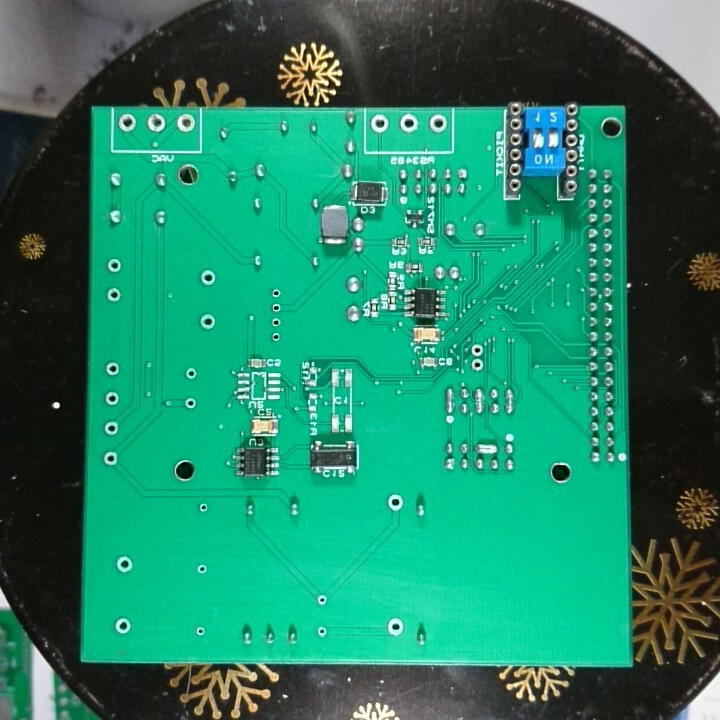F: (397, 111, 420, 135), (117, 111, 139, 135), (143, 112, 167, 134), (369, 112, 391, 135), (114, 553, 136, 575), (174, 112, 197, 133), (428, 112, 448, 135), (385, 615, 404, 639), (102, 448, 123, 469), (385, 492, 405, 513), (112, 616, 133, 636), (197, 268, 218, 288), (104, 256, 125, 275), (198, 312, 217, 332), (104, 360, 123, 379), (103, 419, 121, 438), (102, 391, 122, 407), (105, 285, 122, 303), (182, 365, 198, 382), (469, 342, 485, 358), (469, 357, 485, 373), (182, 395, 198, 411), (268, 329, 284, 345), (197, 500, 211, 516), (315, 592, 328, 609), (268, 314, 282, 329), (315, 624, 328, 640), (195, 561, 208, 577), (194, 623, 207, 638), (270, 299, 282, 315), (270, 286, 283, 300)
P: (471, 384, 485, 417), (442, 384, 456, 415), (502, 386, 516, 416), (473, 440, 499, 456)
